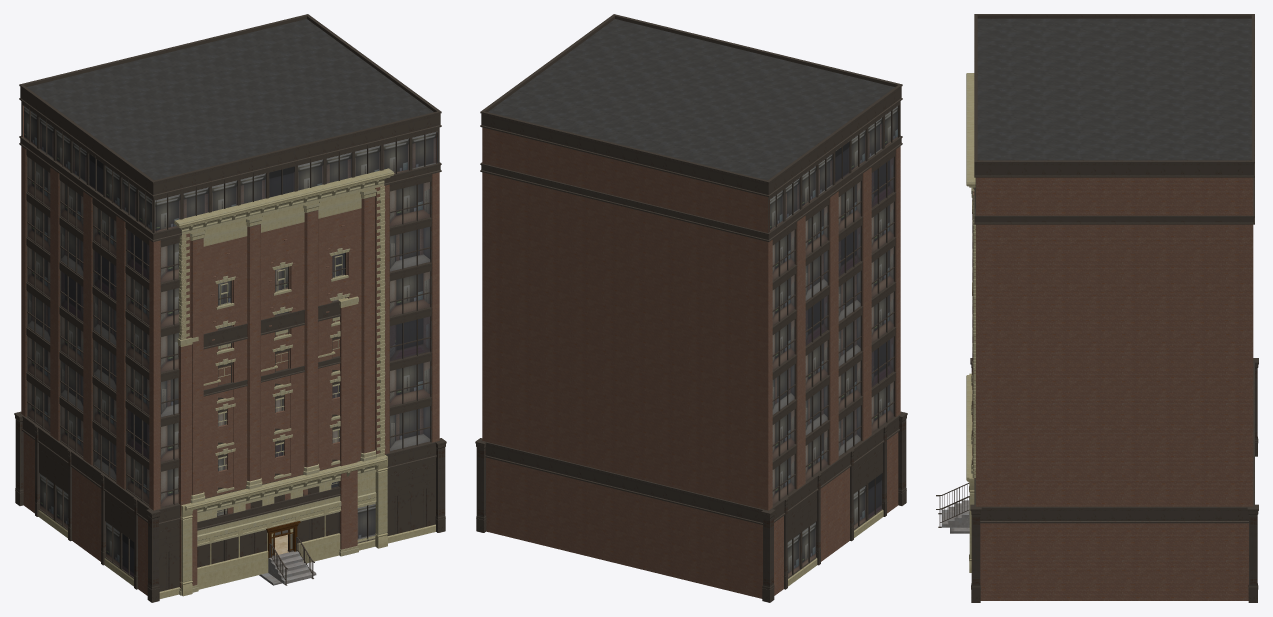
Rendered from ciudad.glb.
The picture shows the model from 3 angles, left to right: view 1: azimuth 30°, elevation 25°; view 2: azimuth 150°, elevation 25°; view 3: azimuth 270°, elevation 25°; orthographic projection. The views are drawn at different scales.
Visible parts, largest first — view 1: Building_Large_2, Building_Medium_2.001, Building_Small_1; view 2: Building_Large_2; view 3: Building_Large_2, Building_Medium_2.001, Building_Small_1.
Boxes of the visible parts, box(x1,y1,x2,y2) form: Building_Large_2: box(14, 14, 446, 602); Building_Medium_2.001: box(174, 168, 394, 596); Building_Small_1: box(177, 296, 358, 595); Building_Large_2: box(475, 14, 907, 602); Building_Large_2: box(970, 14, 1258, 602); Building_Medium_2.001: box(966, 73, 975, 572); Building_Small_1: box(936, 200, 972, 527).
Size of the model in its own units: 20.64 by 28.15 by 18.63.
16 materials, 15 textured.
